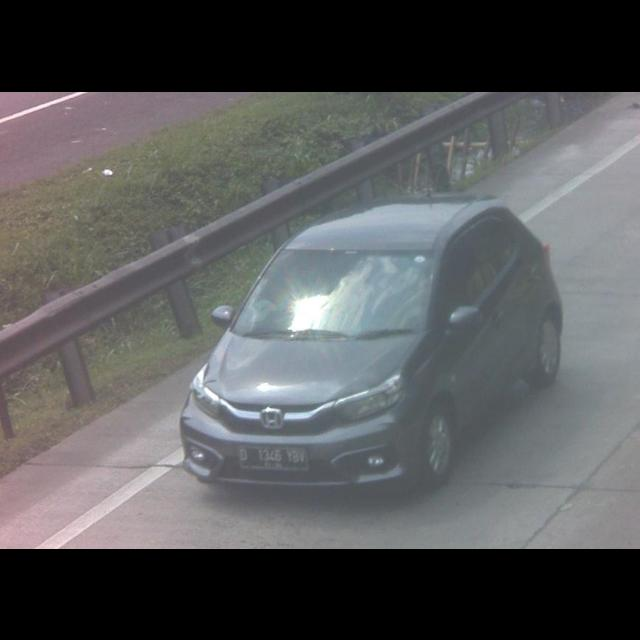plate: (239, 442, 309, 470)
